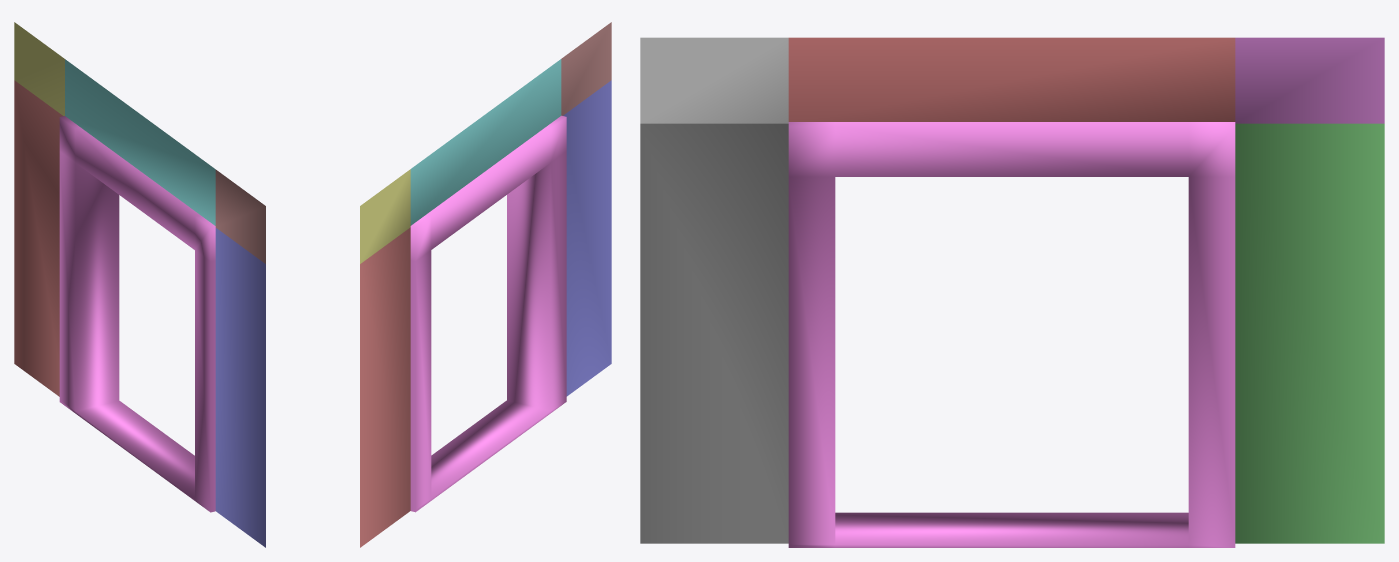
The model's file is SM_wall_BankSafe.gltf.
3 views of the same model, side by side, from view 1: azimuth 30°, elevation 25°; view 2: azimuth 150°, elevation 25°; view 3: azimuth 270°, elevation 25° (orthographic). The views are drawn at different scales.
Visible parts, largest first — view 1: SM_wall_BankSafe; view 2: SM_wall_BankSafe; view 3: SM_wall_BankSafe.
Boxes of the visible parts, x1=… form: SM_wall_BankSafe: x1=14, y1=22, x2=265, y2=547; SM_wall_BankSafe: x1=360, y1=22, x2=611, y2=547; SM_wall_BankSafe: x1=640, y1=37, x2=1384, y2=547.
Size of the model in its own units: 0.4044 by 3 by 4.
